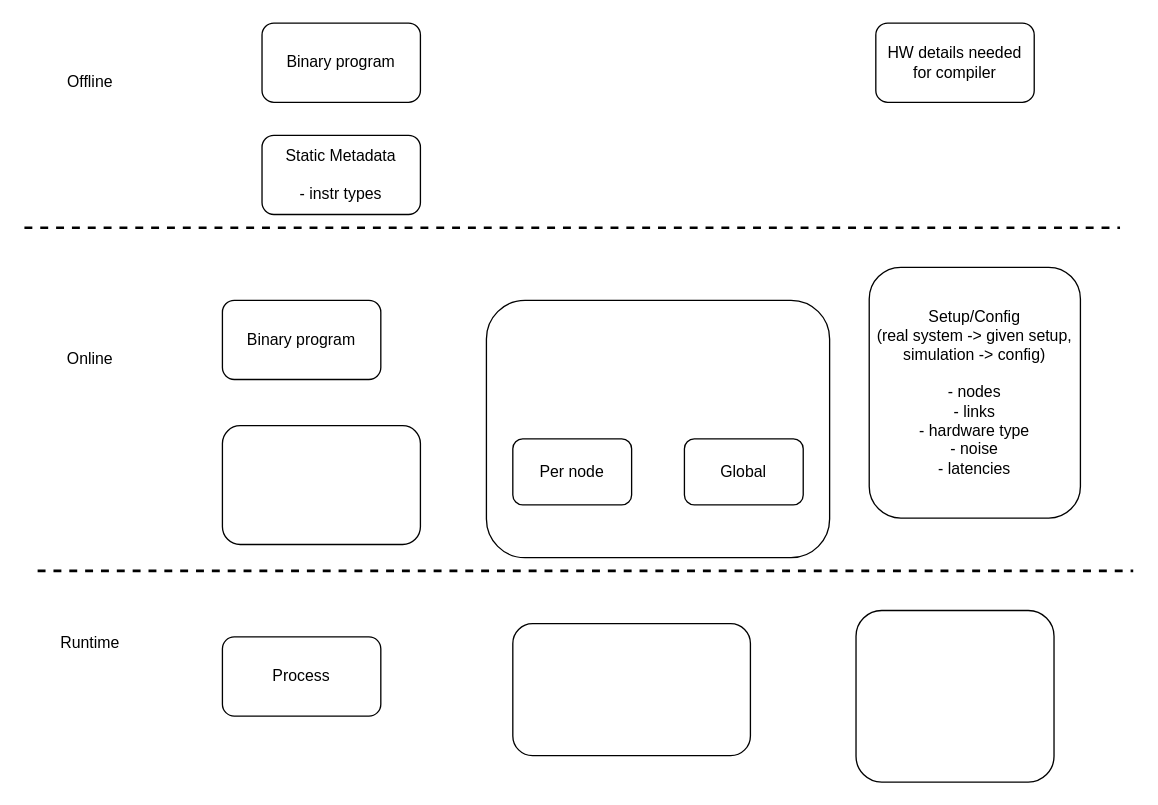
Some shapes in this 1158 by 805 pixel diagram are drawn without their labels. The box of each missing label's shape, as (x1, y1, x2, y2) in pixels:
(Simulated) hardware - host/qnodeos - classical links - quantum links: (855, 609, 1054, 782)
Dynamic Metadata - expected instr durations - number of runs - deadlines: (221, 424, 420, 544)
Runtime - (EPR) Sockets - Scheduler: (512, 622, 750, 756)
Runtime Interface - node IDs - (EPR) socket IDs - generic latency/error info: (485, 299, 830, 558)
